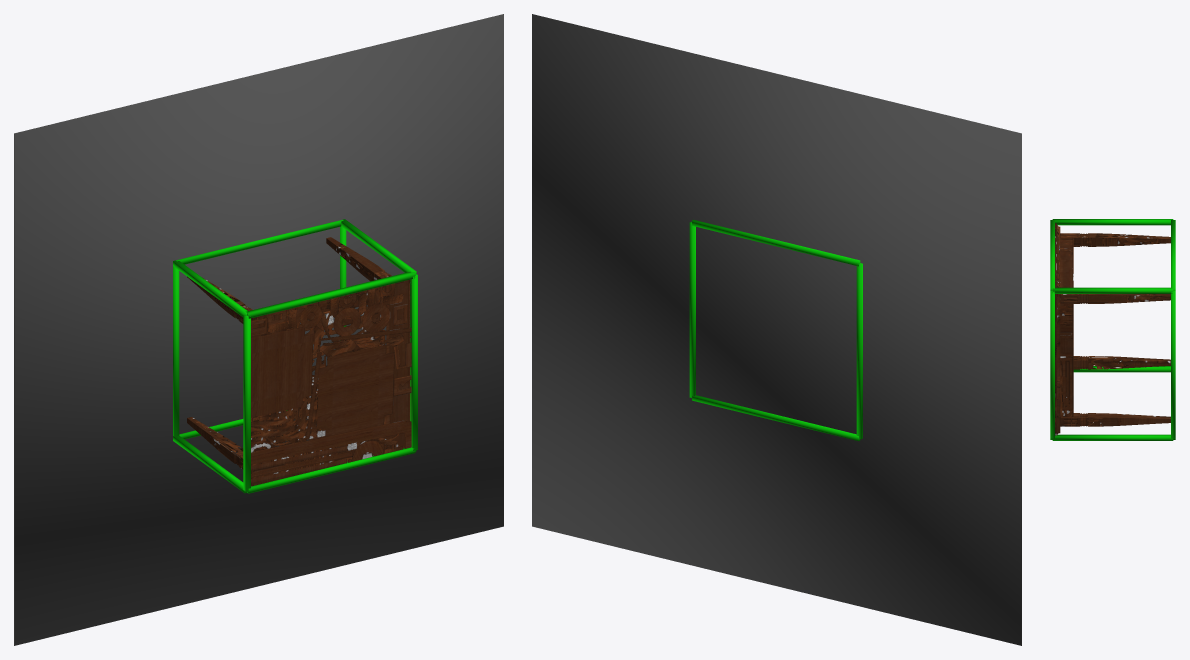
The picture shows the model from 3 angles, left to right: view 1: azimuth 30°, elevation 25°; view 2: azimuth 150°, elevation 25°; view 3: azimuth 270°, elevation 25°; orthographic projection. The views are drawn at different scales.
Size of the model in its own units: 2 by 2 by 0.5271.
